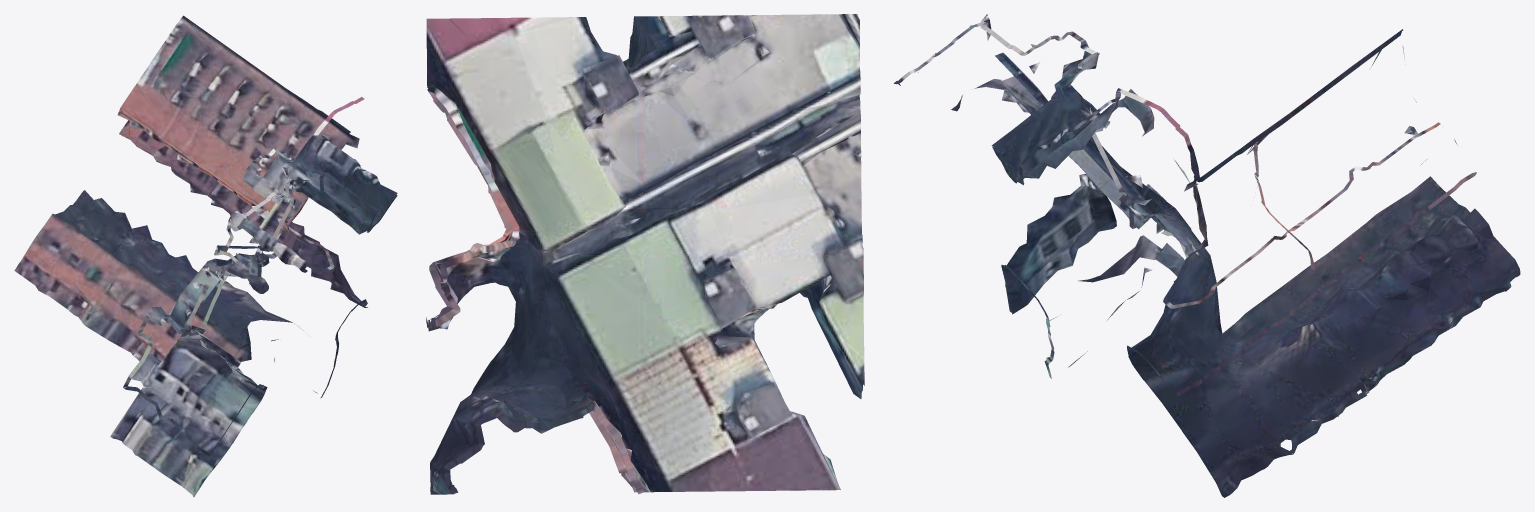
The picture shows the model from 3 angles, left to right: view 1: azimuth 30°, elevation 25°; view 2: azimuth 150°, elevation 25°; view 3: azimuth 270°, elevation 25°; orthographic projection. The views are drawn at different scales.
Size of the model in its own units: 37.18 by 45.16 by 59.72.
Materials: 1 (1 with a texture image).
